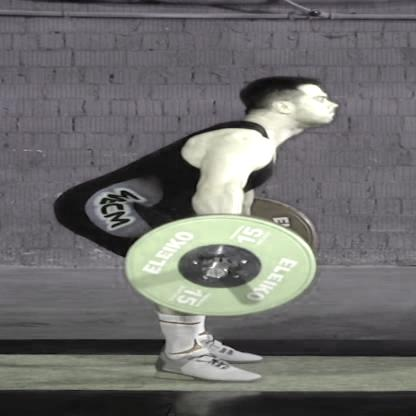barbell: (124, 215, 317, 317)
